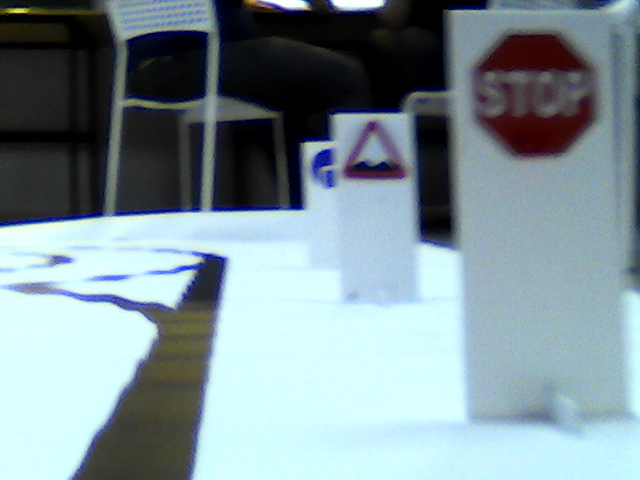Nerov: (341, 118, 408, 181)
Stop: (470, 27, 600, 154)
